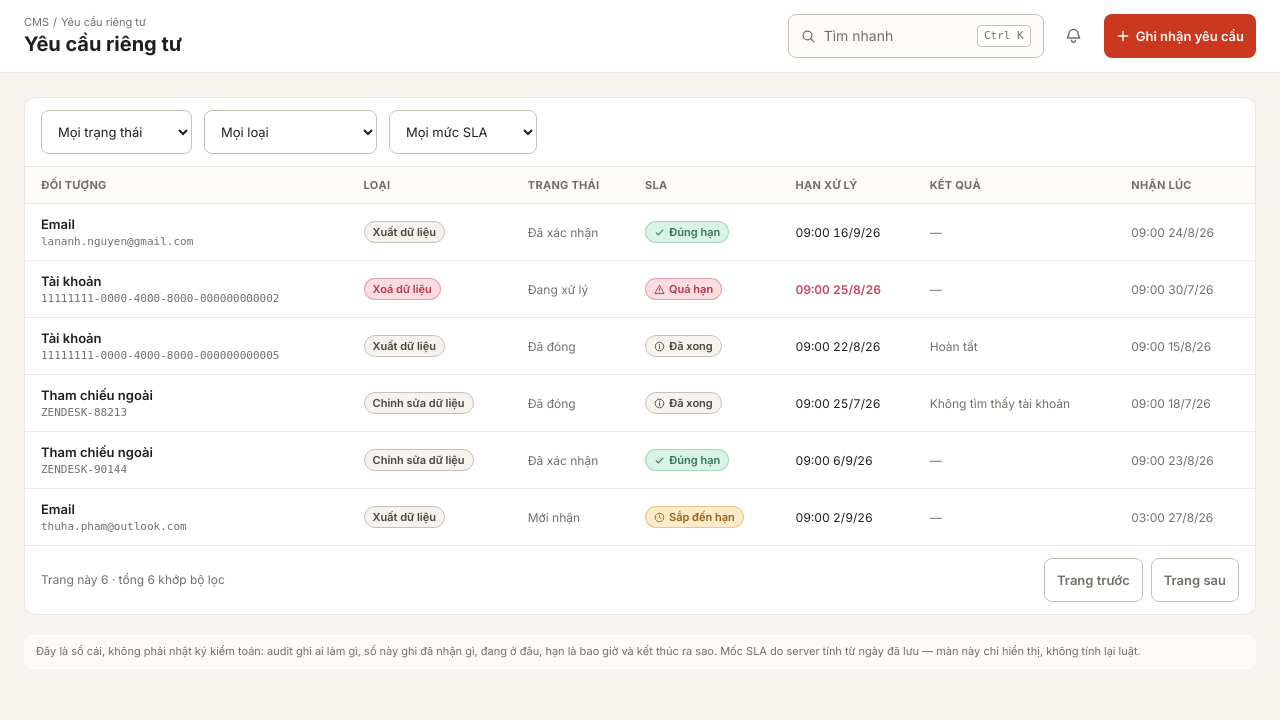
privacy ledger (CMS-043) › refuses a delete execute for ops_admin with the role explanation
The image size is (1280, 720).
Click the text "11111111-0000-4000-8000-000000000002": (160,298) x1=41 y1=292 x2=279 y2=305
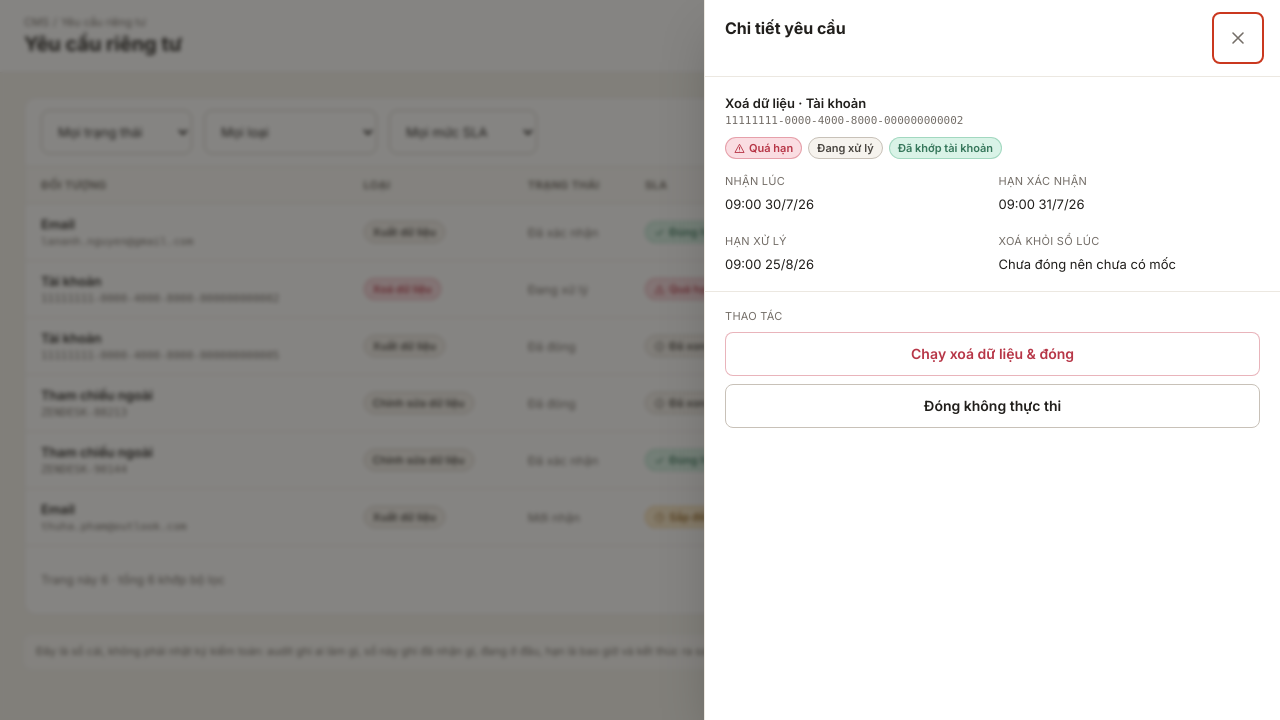
Click the button "Chạy xoá dữ liệu & đóng": (992,354) x1=725 y1=332 x2=1260 y2=376
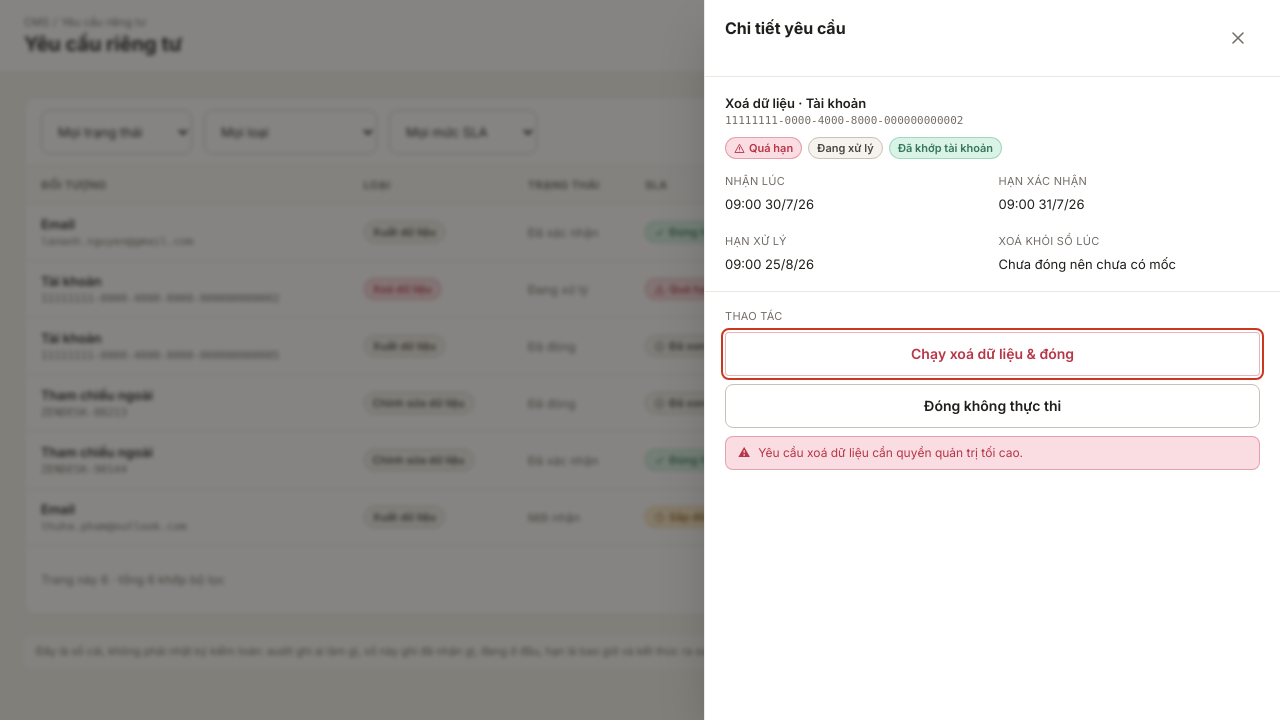
Now the text "⚠ Yêu cầu xoá dữ liệu cần quyền quản trị tối cao." is shown, box x1=725 y1=436 x2=1260 y2=470
